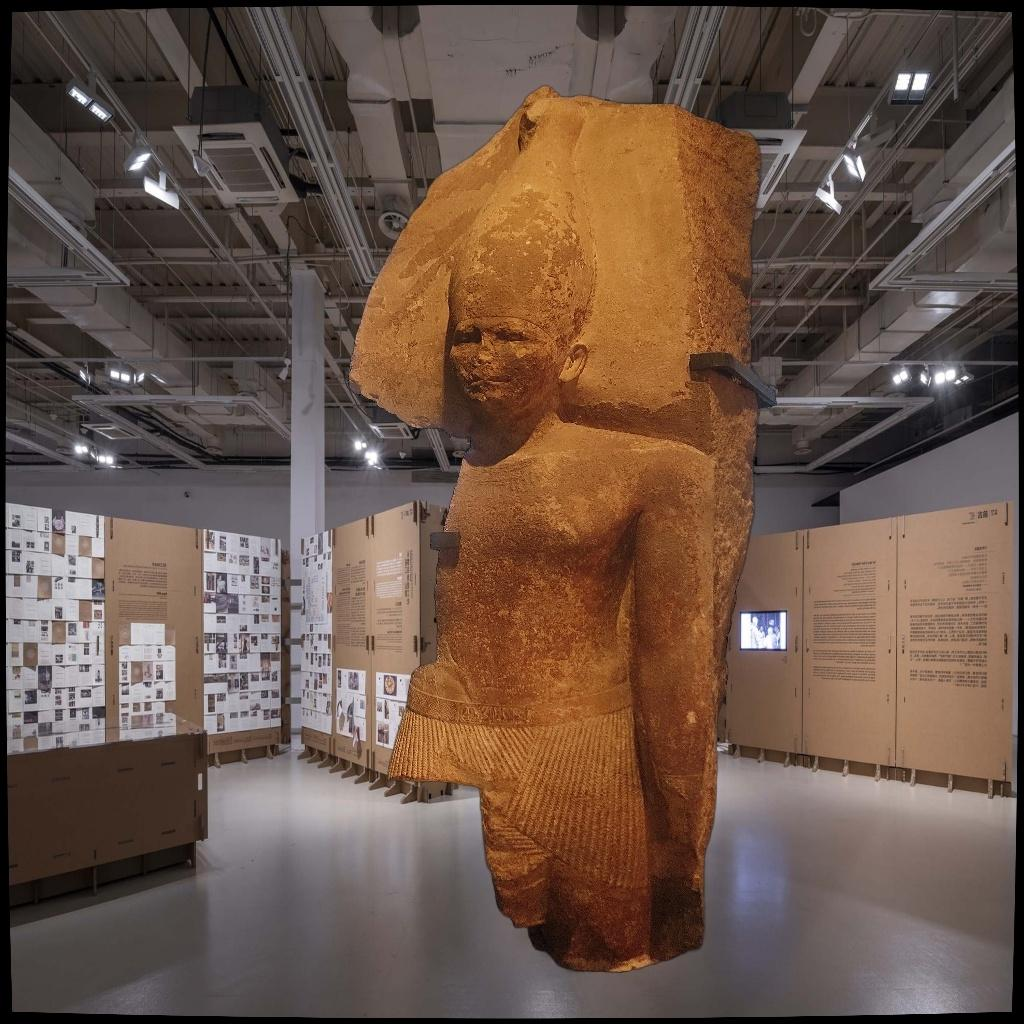Statue of Snefru: (343, 83, 780, 977)
